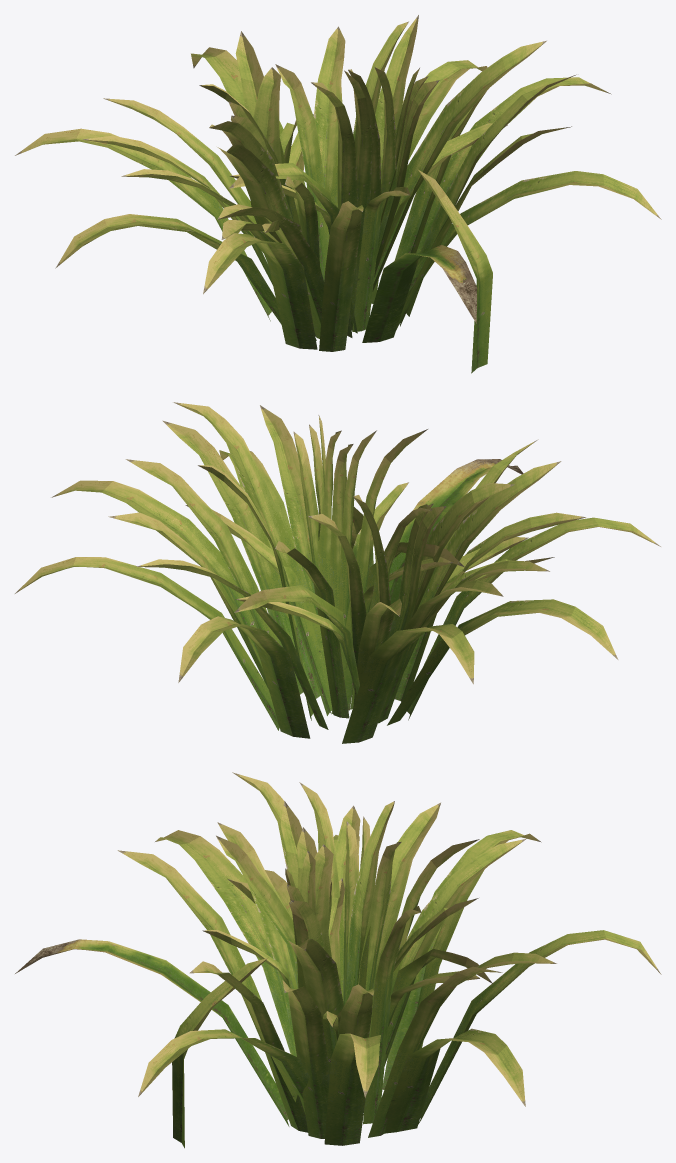
The model's file is grass2.fbx.
The picture shows the model from 3 angles, top to bottom: view 1: azimuth 30°, elevation 25°; view 2: azimuth 150°, elevation 25°; view 3: azimuth 270°, elevation 25°; orthographic projection. The views are drawn at different scales.
Parts seen in each view (by area): view 1: Grass_13; view 2: Grass_13; view 3: Grass_13.
Part boxes in pixels (x1,y1,x2,y2): Grass_13: (15, 15, 661, 373); Grass_13: (15, 402, 660, 743); Grass_13: (15, 772, 661, 1148).
Size of the model in its own units: 0.6921 by 0.6721 by 0.327.
1 material, 1 textured.
